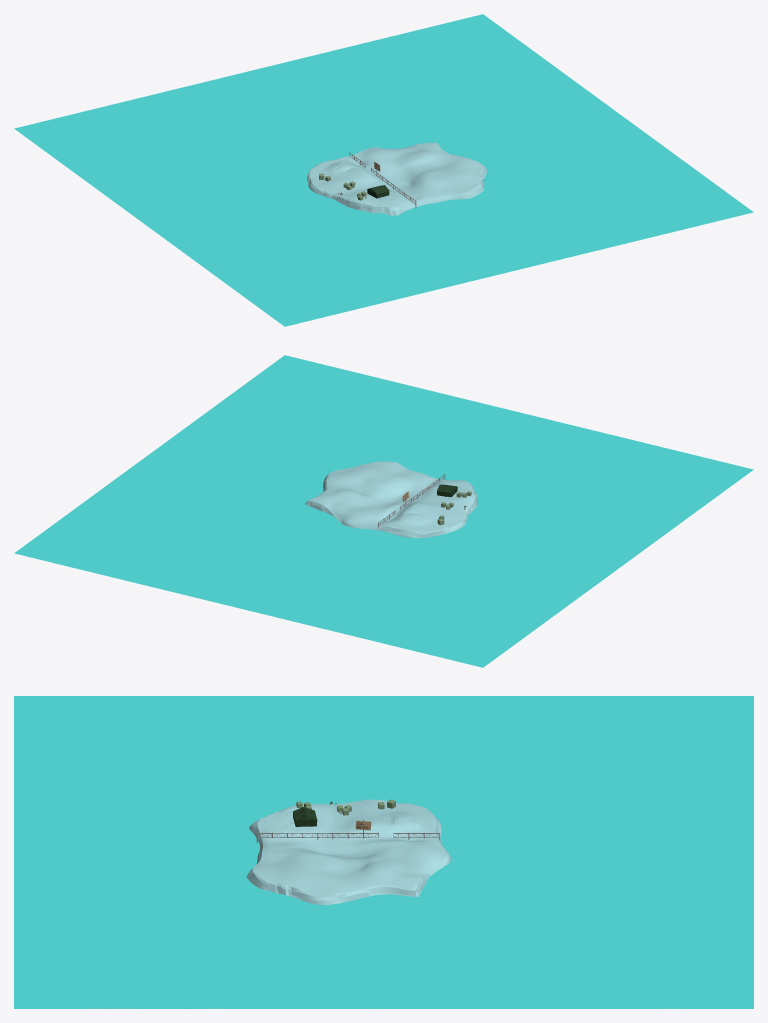
File: environment_pole_sud.fbx
The picture shows the model from 3 angles, top to bottom: view 1: azimuth 30°, elevation 25°; view 2: azimuth 150°, elevation 25°; view 3: azimuth 270°, elevation 25°; orthographic projection. The views are drawn at different scales.
Visible parts, largest first — view 1: Plane; view 2: Plane; view 3: Plane.
Part boxes in pixels (left/top/right/bottom): Plane: left=14, top=14, right=753, bottom=326; Plane: left=14, top=355, right=753, bottom=667; Plane: left=14, top=696, right=753, bottom=1008.
Size of the model in its own units: 60903 by 2848 by 60903.
